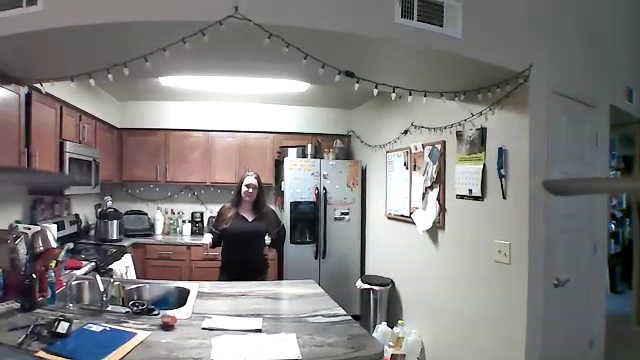down: (194, 228, 219, 258)
